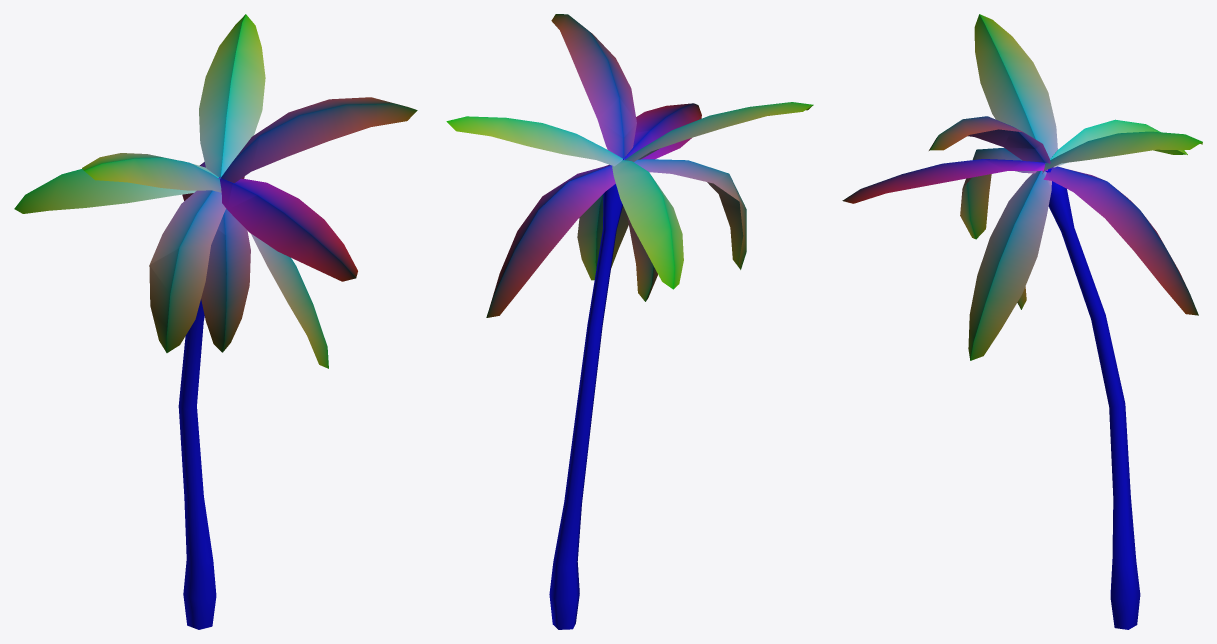
The model's file is tree.FBX.
The picture shows the model from 3 angles, left to right: view 1: azimuth 30°, elevation 25°; view 2: azimuth 150°, elevation 25°; view 3: azimuth 270°, elevation 25°; orthographic projection. The views are drawn at different scales.
Visible parts, largest first — view 1: Palm_01; view 2: Palm_01; view 3: Palm_01.
Part boxes in pixels (box(x1,y1,x2,y2)): Palm_01: box(14, 14, 417, 629); Palm_01: box(446, 14, 813, 629); Palm_01: box(842, 14, 1202, 629).
Bounding box in the file's own units: 202 × 358 × 219.
